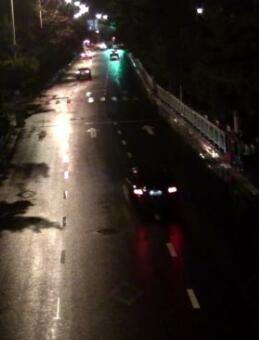car: (125, 166, 183, 209), (74, 67, 92, 81), (109, 50, 119, 61)
